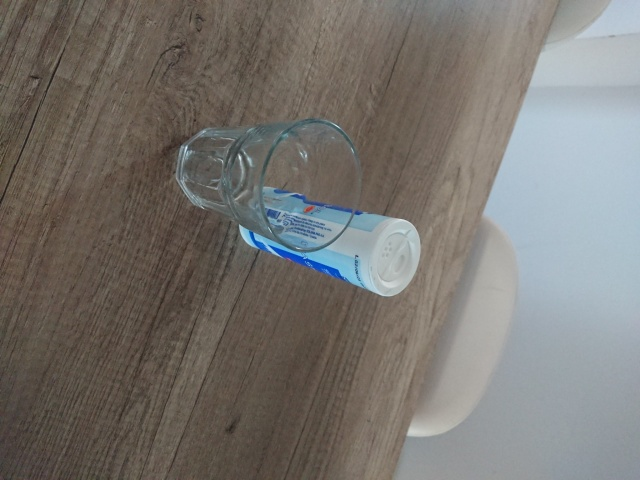Solana Pag Fine Sea Salt 250g: (236, 184, 424, 300)
